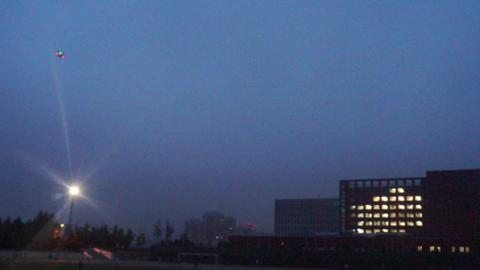UAV: (56, 52, 65, 59)
